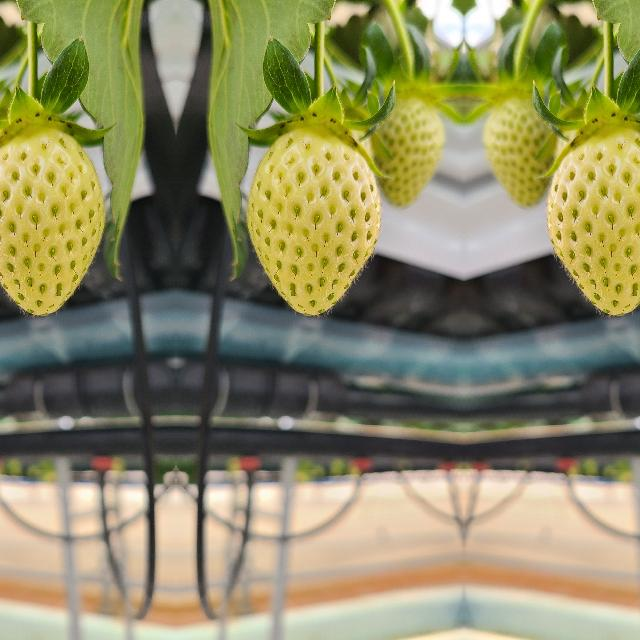Health_25: (246, 125, 380, 315), (0, 125, 104, 315), (546, 125, 640, 315)
